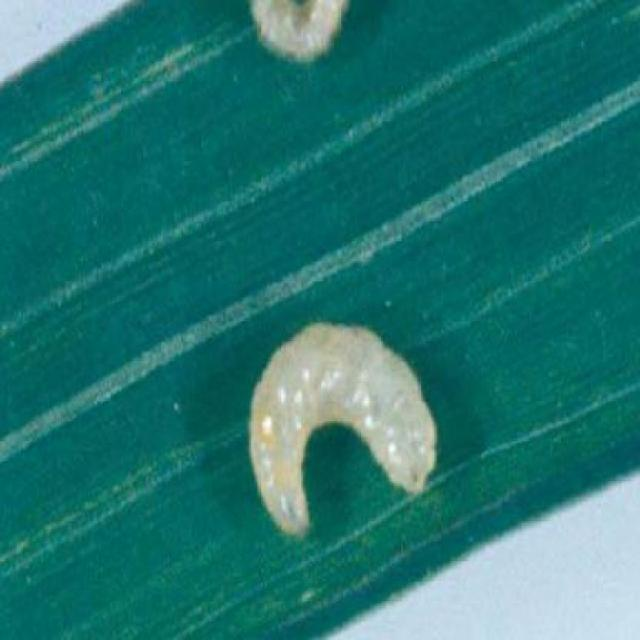whorl-maggot: (235, 309, 457, 548)
